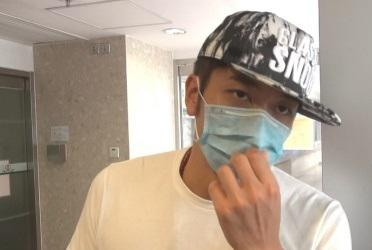OK: (199, 73, 299, 179)
